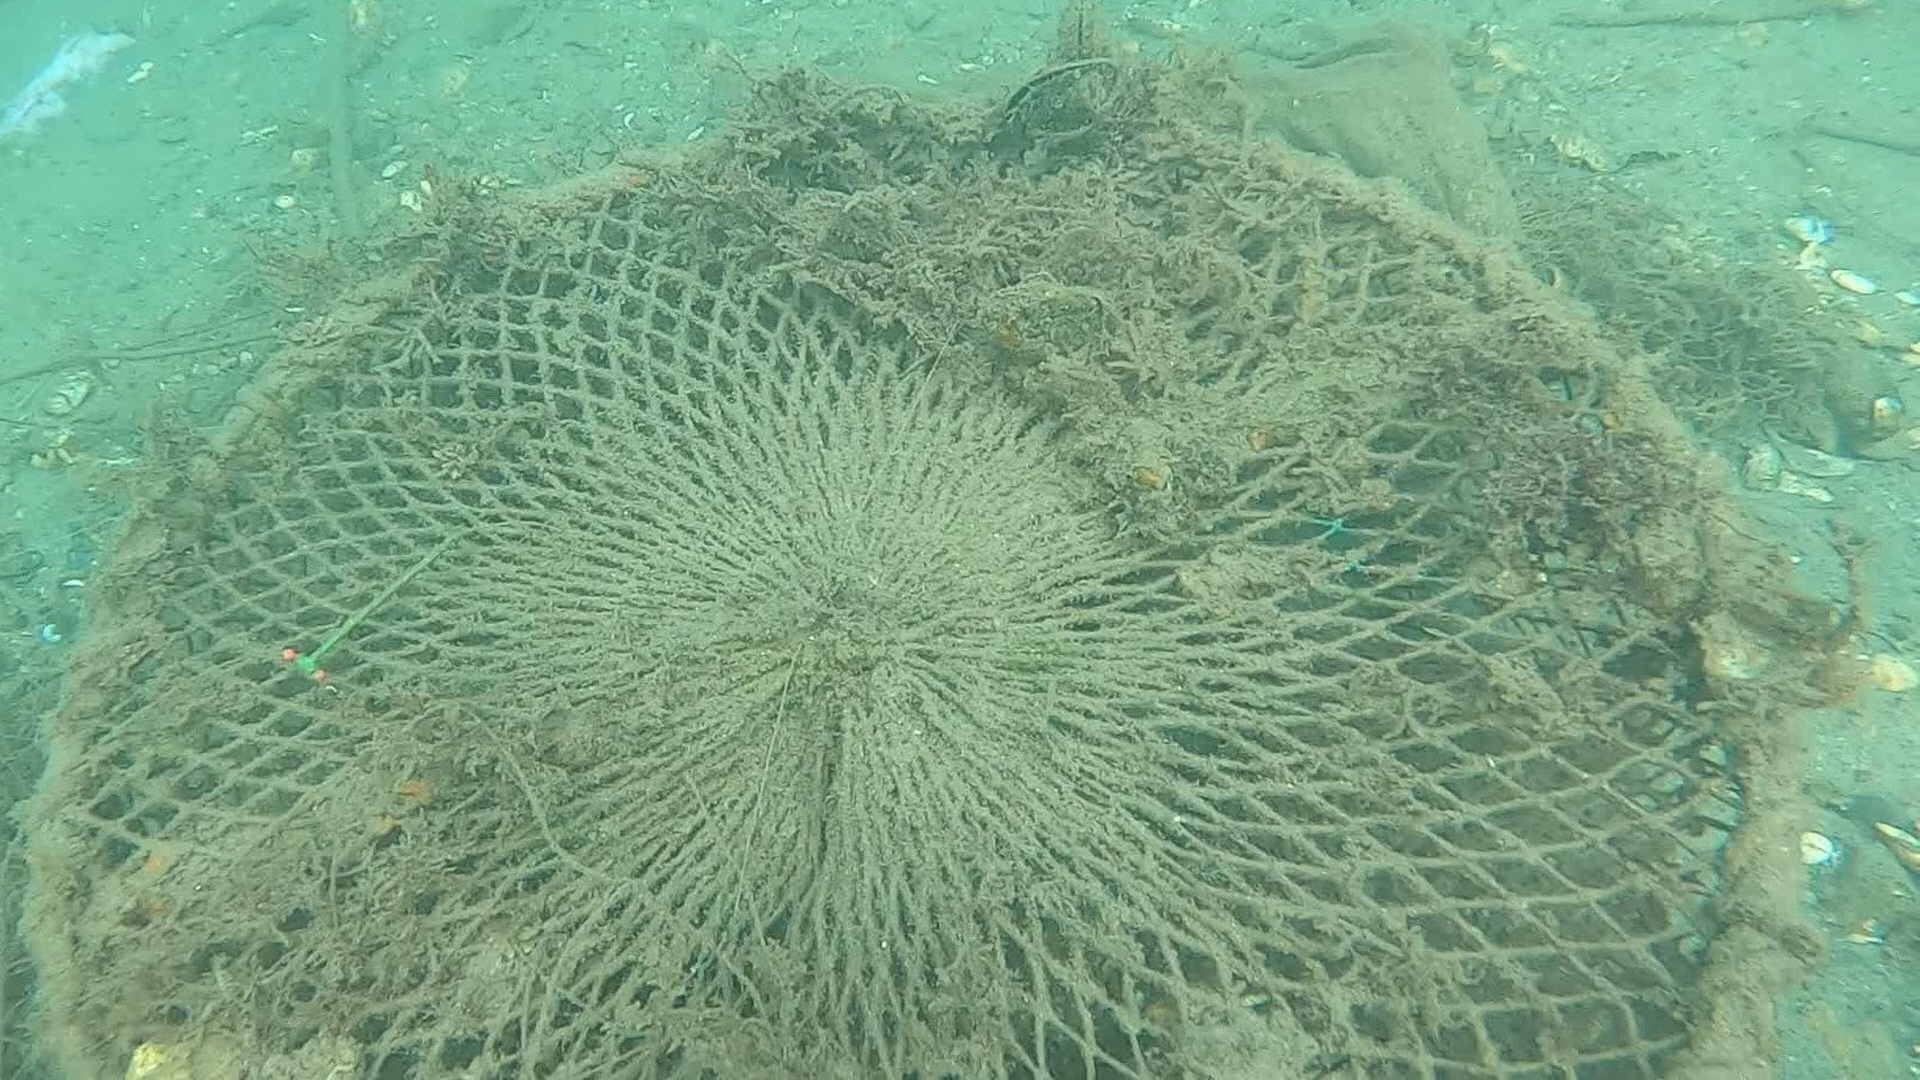circular fish trap: (15, 113, 1816, 1080)
